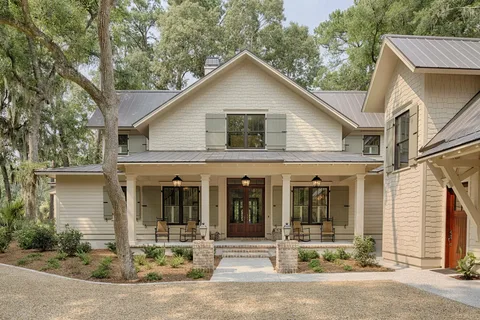private_hause: (120, 70, 382, 264)
